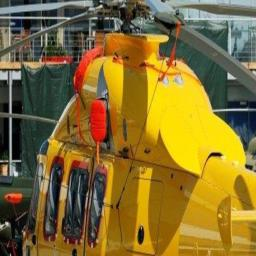helicopter: (5, 2, 251, 253)
